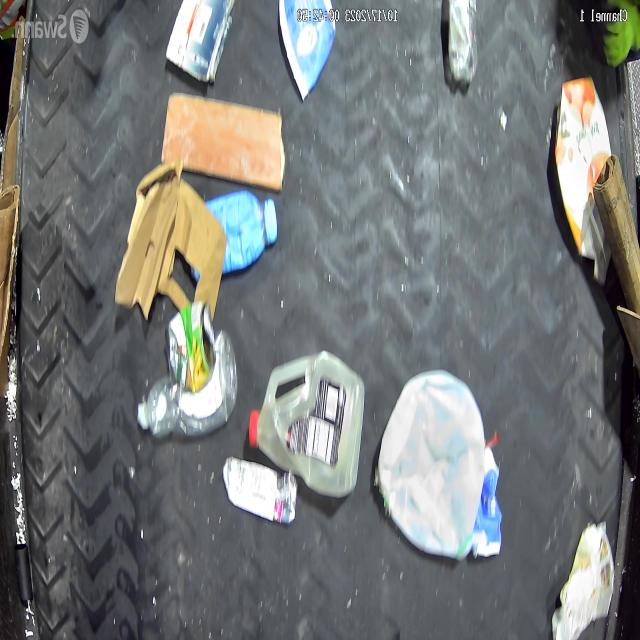can: (168, 300, 216, 392)
milk_jug: (378, 367, 484, 560)
non_white_jug: (249, 352, 365, 496), (554, 75, 613, 286)
plastic_bottle: (138, 330, 238, 440)
